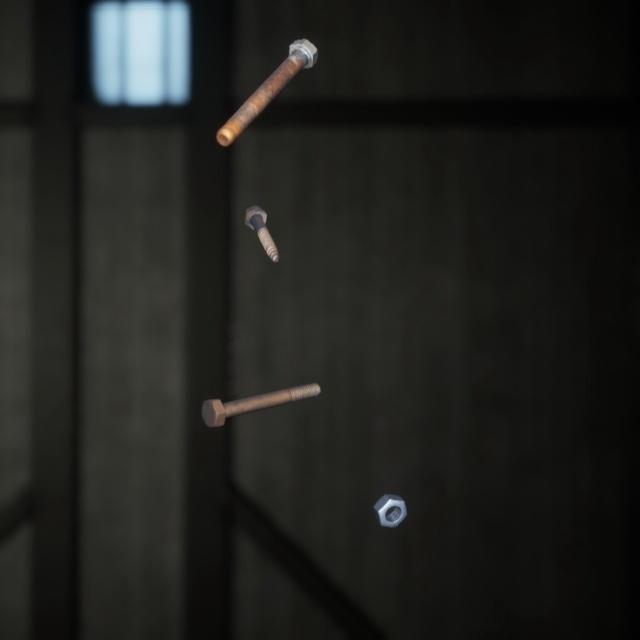bolt: (211, 23, 322, 138), (197, 358, 324, 411), (239, 184, 283, 250)
nut: (369, 468, 412, 511)
